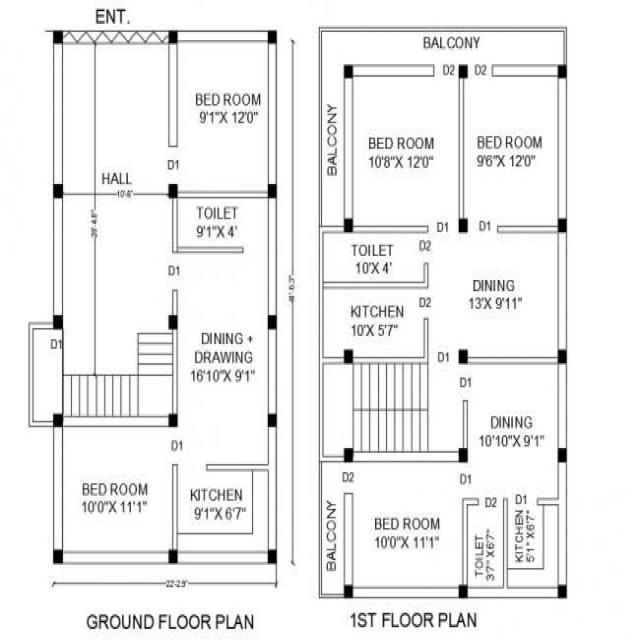Blueprint: (313, 18, 574, 609), (42, 16, 282, 580)
column: (555, 214, 570, 238), (342, 60, 356, 82), (456, 215, 470, 237), (51, 180, 65, 201), (166, 409, 180, 430), (342, 216, 356, 237), (167, 546, 180, 568), (555, 444, 568, 466), (51, 313, 66, 332), (51, 410, 66, 429), (167, 182, 181, 202), (51, 546, 65, 566), (556, 346, 568, 369), (342, 346, 355, 367), (166, 312, 179, 332), (266, 312, 279, 332), (456, 582, 469, 602), (456, 346, 469, 366), (457, 62, 470, 82), (556, 581, 569, 601), (266, 546, 278, 567), (266, 411, 279, 430), (342, 446, 355, 465), (266, 180, 278, 200), (51, 28, 64, 46), (265, 28, 278, 46), (457, 445, 469, 464), (556, 61, 568, 80), (342, 582, 355, 599), (167, 29, 179, 46)
wall: (317, 224, 430, 603), (204, 425, 279, 556), (555, 72, 569, 221), (51, 39, 64, 186), (350, 448, 460, 465), (61, 549, 170, 566), (342, 75, 354, 222), (555, 228, 569, 353), (175, 549, 270, 567), (178, 26, 270, 44), (61, 413, 171, 428), (352, 585, 460, 600), (51, 196, 64, 318), (556, 458, 568, 588), (52, 424, 64, 553), (353, 62, 437, 80), (466, 584, 560, 600), (266, 194, 278, 319), (268, 40, 278, 186), (465, 353, 560, 368), (167, 42, 180, 151), (490, 62, 561, 80), (174, 188, 270, 201), (352, 223, 431, 238), (556, 360, 569, 451), (342, 490, 354, 588), (457, 76, 465, 220), (266, 327, 278, 415), (351, 353, 430, 366), (496, 221, 560, 237), (501, 495, 510, 592), (460, 500, 469, 590), (172, 326, 180, 419), (171, 461, 179, 552), (460, 397, 470, 451), (171, 194, 179, 258), (420, 314, 430, 365), (170, 286, 180, 319), (460, 494, 481, 508), (536, 495, 561, 506)
